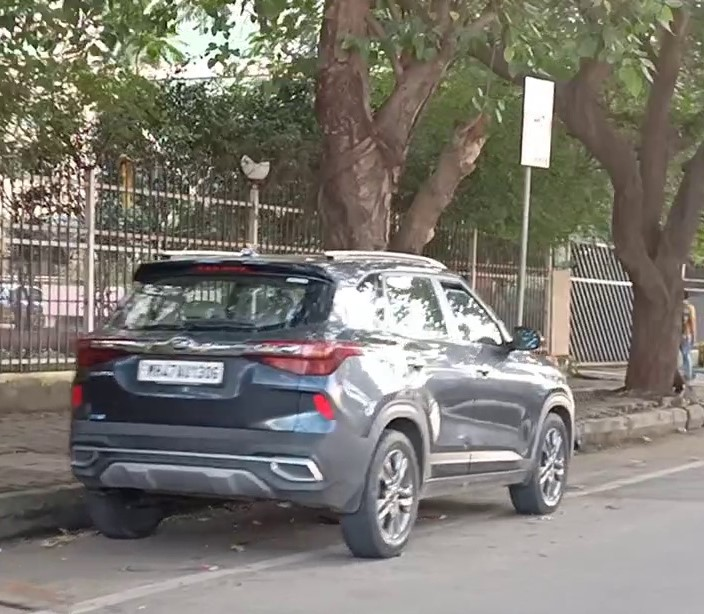MH47AU1306: (137, 359, 226, 387)
